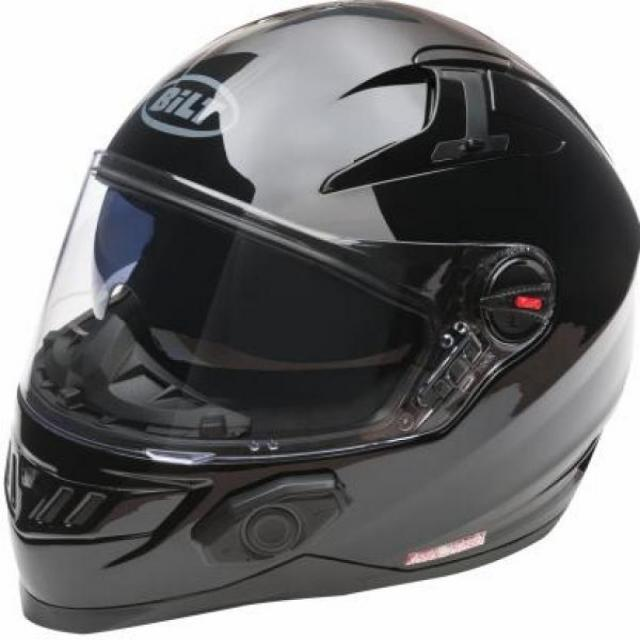Helmet: (31, 17, 613, 563)
